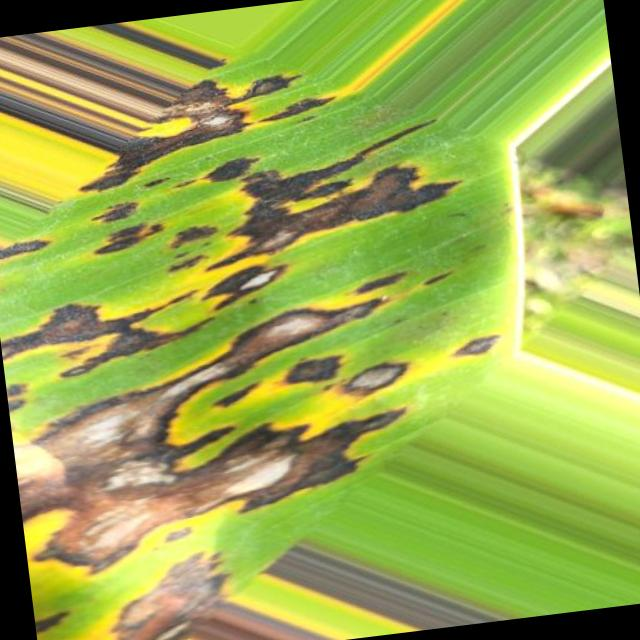Banana_Black_Sigatoka: (0, 38, 454, 337), (3, 321, 427, 640)
